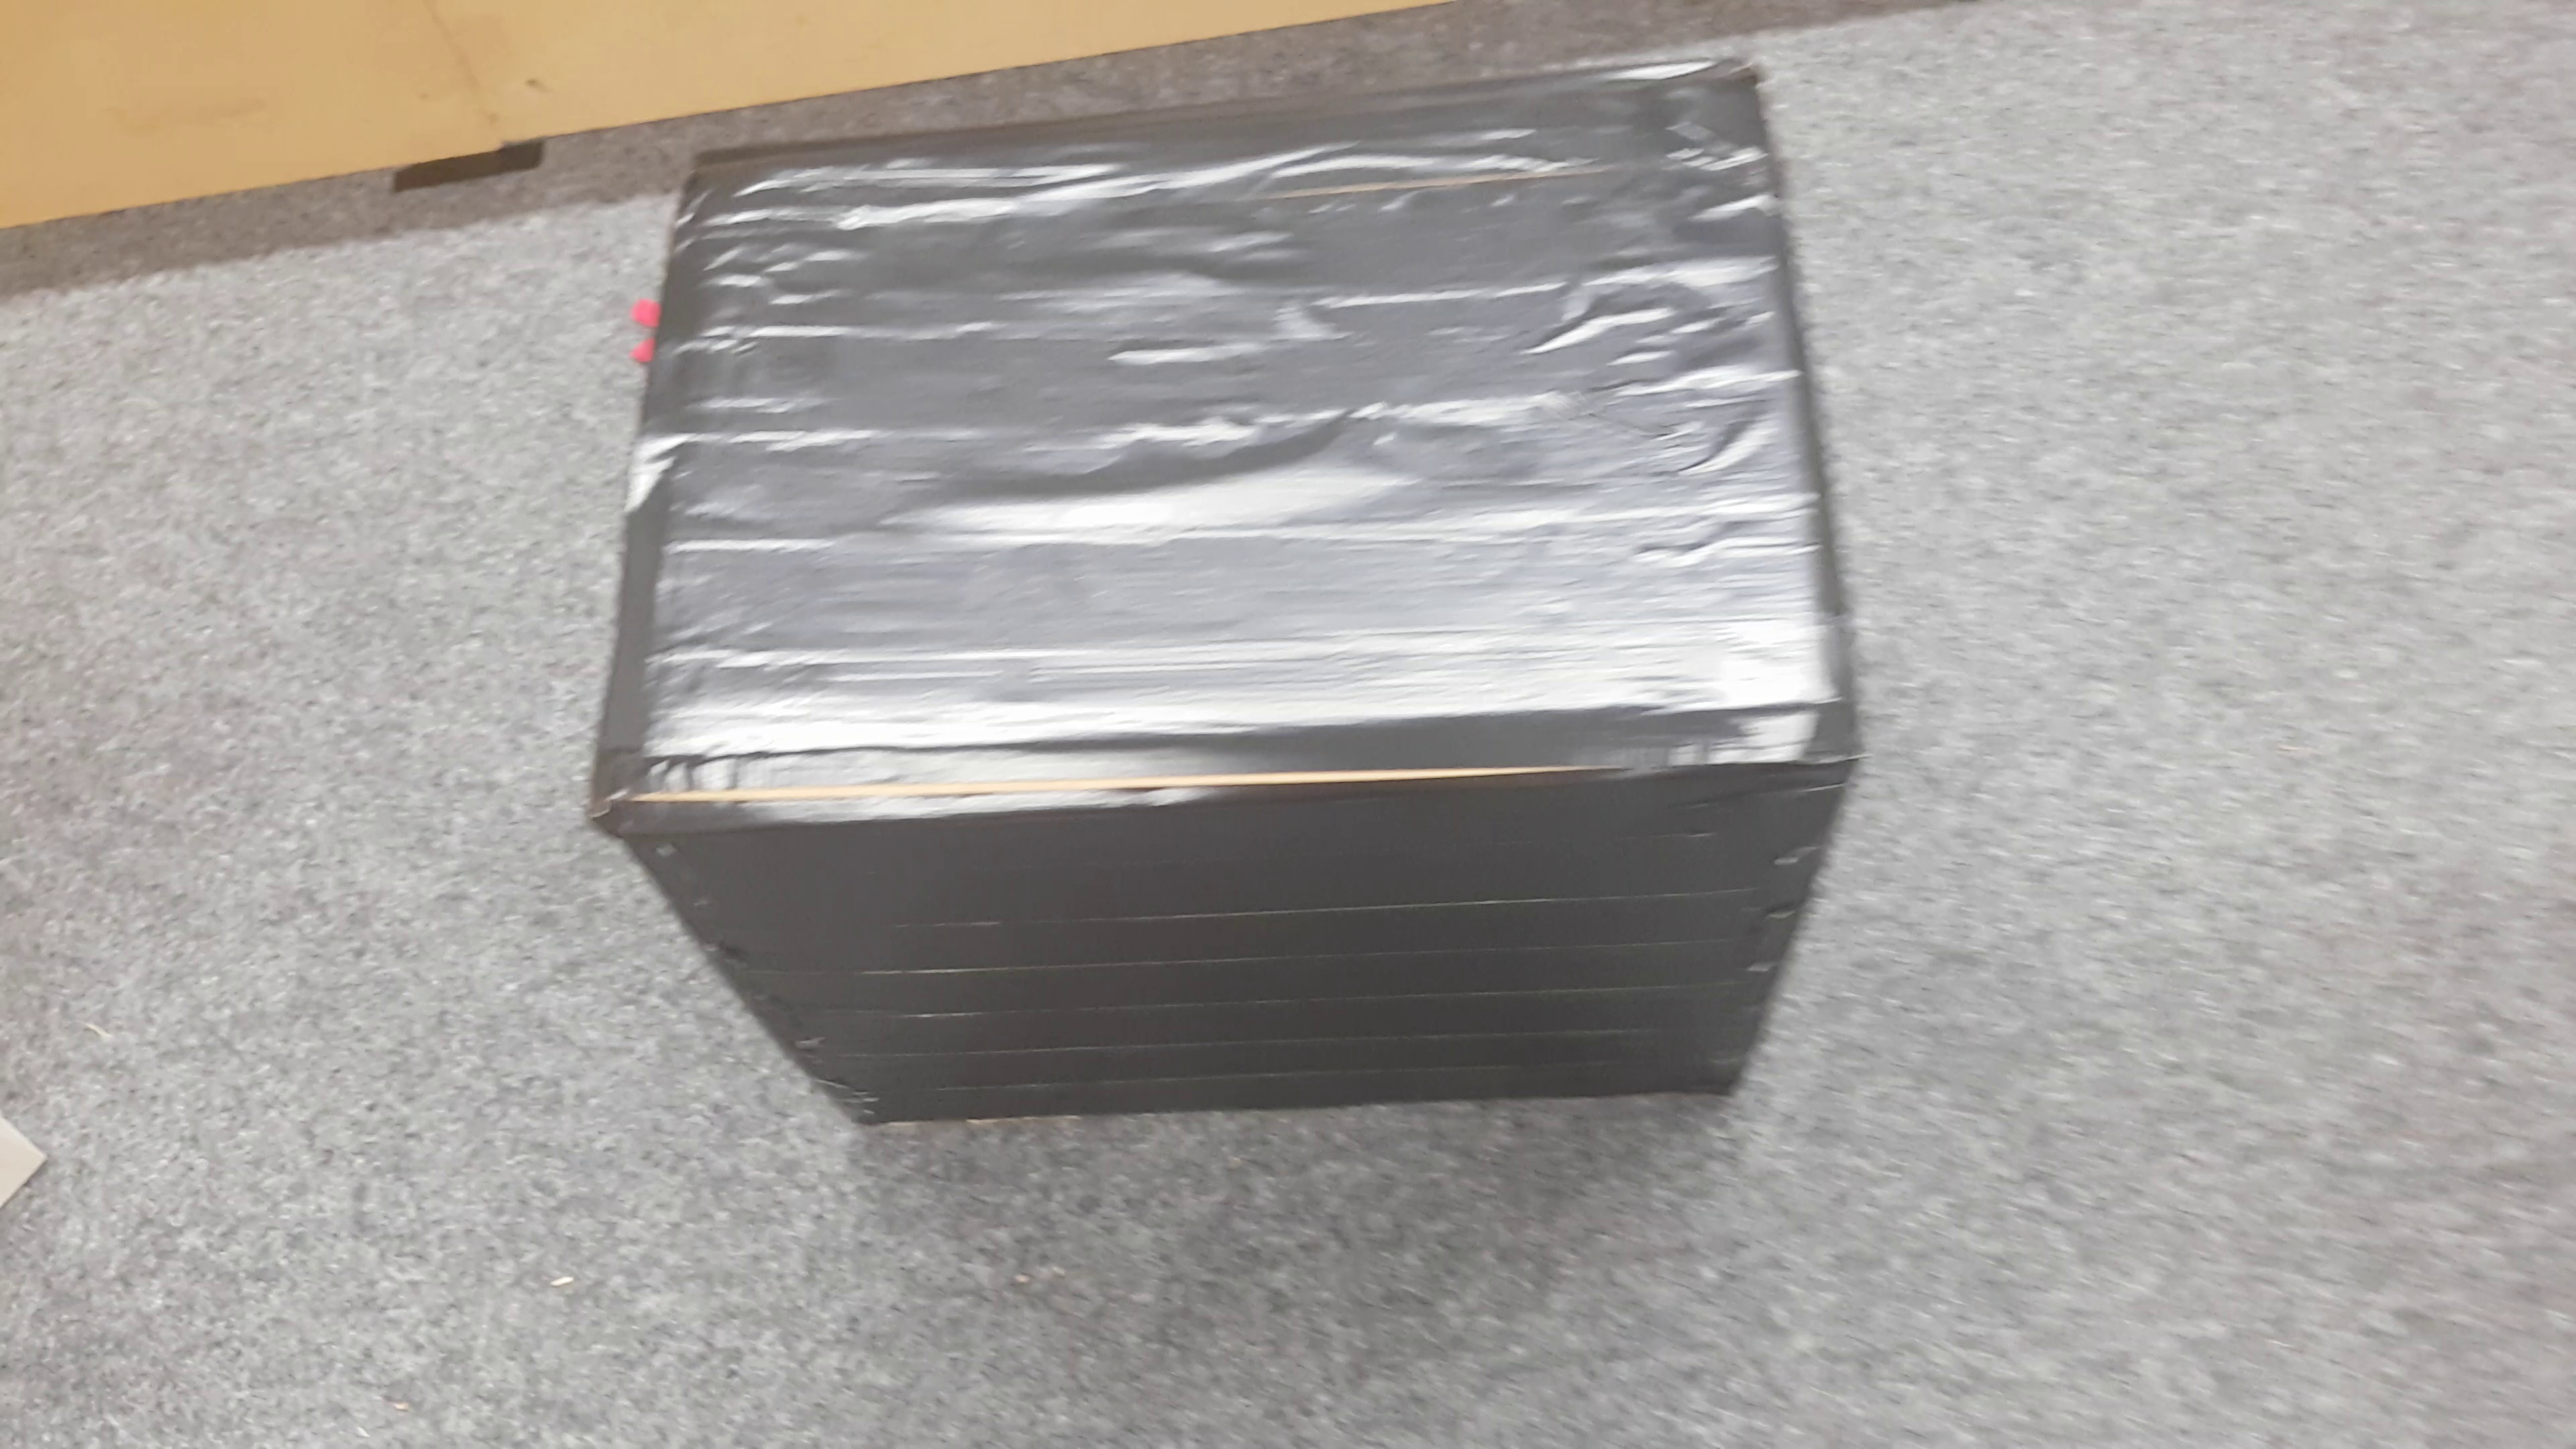push: (609, 134, 1859, 1129)
